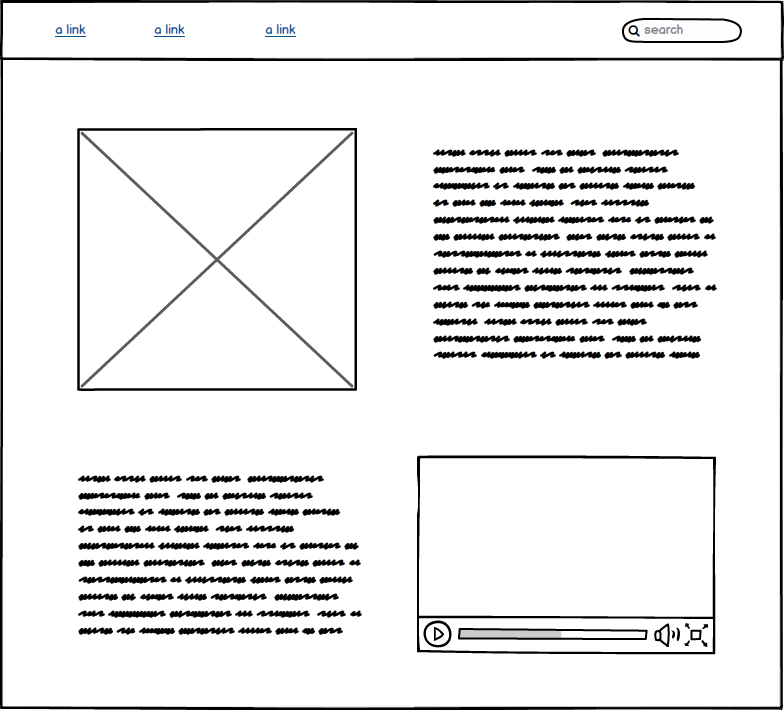image: (72, 124, 365, 397)
navlink: (259, 18, 317, 51), (47, 19, 95, 43), (147, 22, 190, 42)
p: (425, 142, 723, 365), (74, 471, 369, 644)
search: (618, 13, 749, 47)
video: (408, 452, 720, 661)
